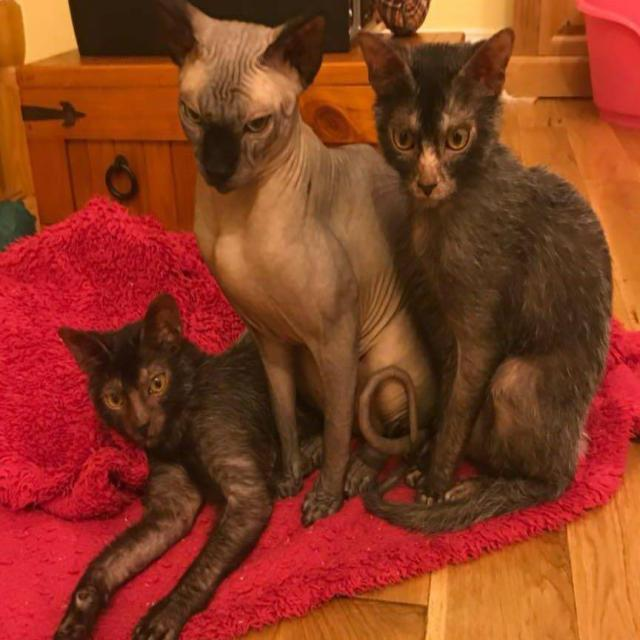Lykoi: (357, 19, 616, 528)
Sphynx: (41, 283, 283, 640), (162, 0, 361, 311)
